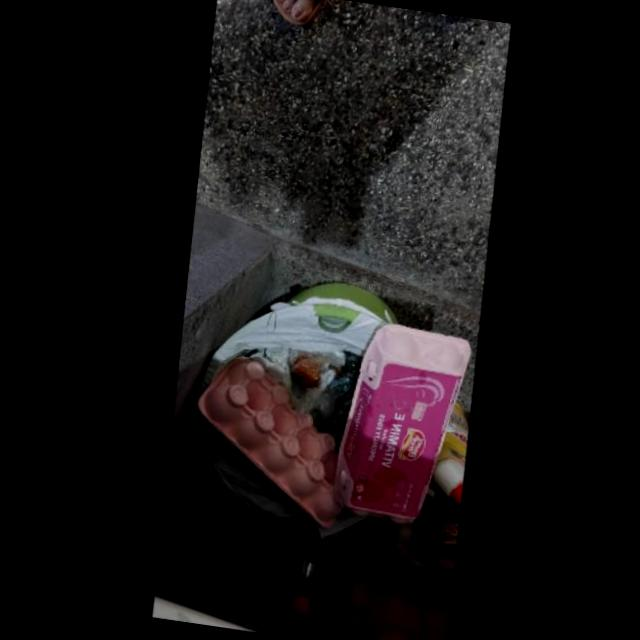hop_nhua: (331, 322, 470, 526), (194, 357, 344, 530), (433, 407, 468, 505)
